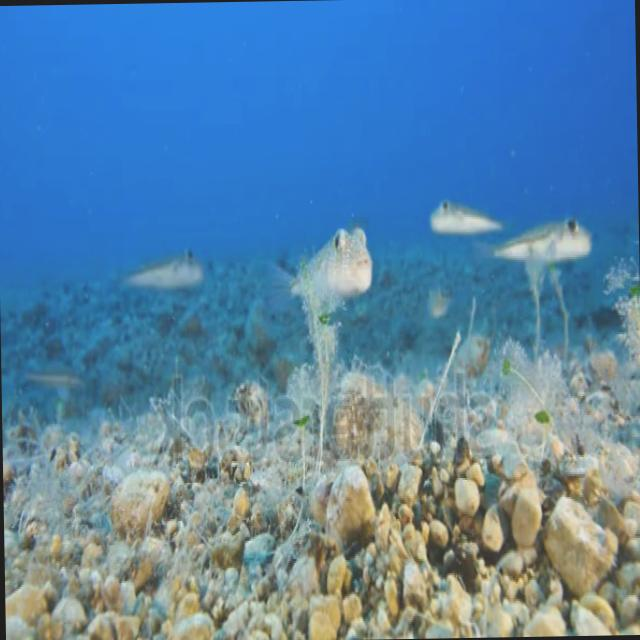Balon Baligi: (108, 232, 212, 308), (289, 212, 376, 298), (494, 208, 588, 270), (422, 188, 500, 234)
